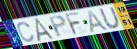A: (87, 9, 110, 34), (34, 17, 57, 42)
C: (17, 21, 36, 43)
F: (64, 11, 82, 37)
P: (48, 14, 68, 39)
U: (98, 6, 123, 29)
